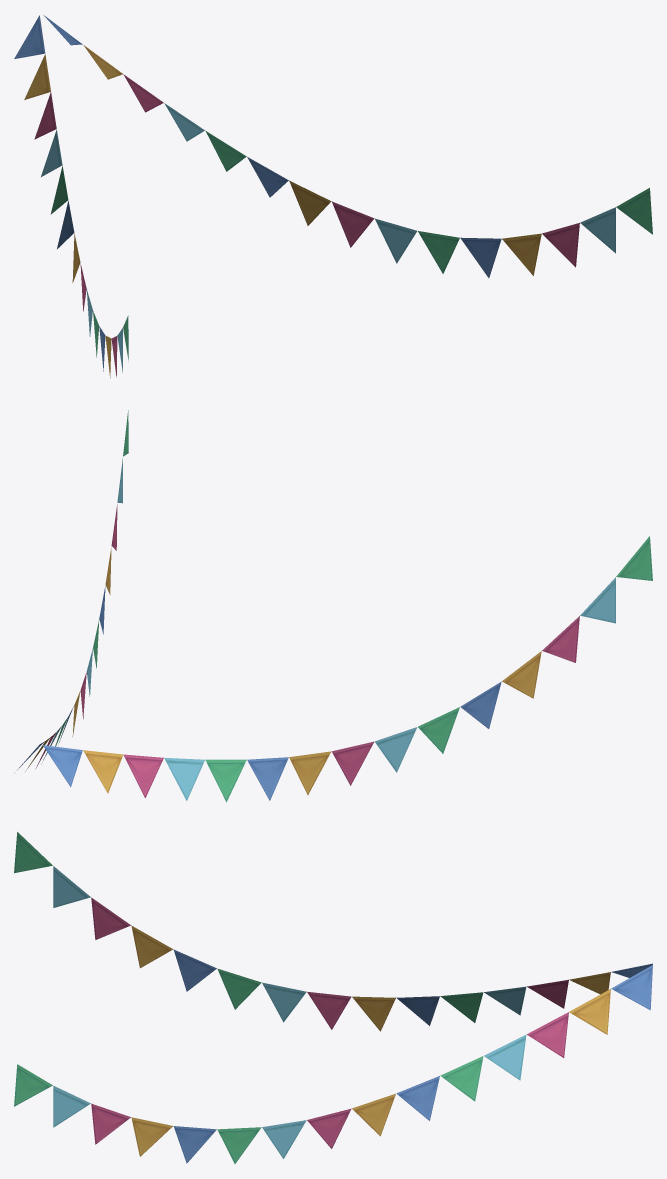
File: colorfulLine.fbx
3 views of the same model, one above another, from view 1: azimuth 30°, elevation 25°; view 2: azimuth 150°, elevation 25°; view 3: azimuth 270°, elevation 25° (orthographic). The views are drawn at different scales.
Visible parts, largest first — view 1: JS_dance_room_caiqi; view 2: JS_dance_room_caiqi; view 3: JS_dance_room_caiqi.
Part boxes in pixels (box(x1,y1,x2,y2)): JS_dance_room_caiqi: box(14, 15, 652, 378); JS_dance_room_caiqi: box(17, 410, 652, 802); JS_dance_room_caiqi: box(14, 832, 652, 1163).
Size of the model in its own units: 4.64 by 1.33 by 5.36.
1 material, 1 textured.
